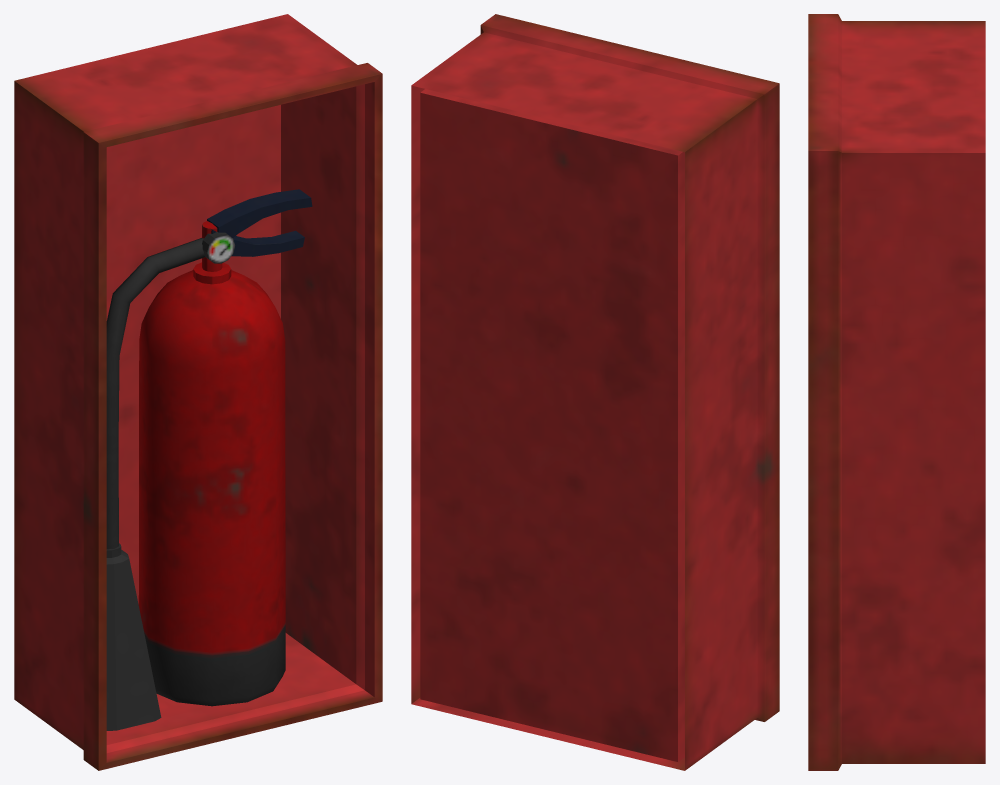
The model's file is Extintor_Con_Caja.fbx.
3 views of the same model, side by side, from view 1: azimuth 30°, elevation 25°; view 2: azimuth 150°, elevation 25°; view 3: azimuth 270°, elevation 25° (orthographic).
Parts seen in each view (by area): view 1: Cube.001, Circle, Cube, BezierCurve, Plane, Cylinder; view 2: Cube.001; view 3: Cube.001.
Part boxes in pixels (x1,y1,x2,y2): Cube.001: [14, 14, 382, 770]; Circle: [138, 221, 285, 706]; Cube: [106, 543, 161, 730]; BezierCurve: [106, 238, 204, 549]; Plane: [207, 189, 312, 256]; Cylinder: [202, 231, 235, 263]; Cube.001: [411, 14, 779, 770]; Cube.001: [808, 14, 985, 770].
Size of the model in its own units: 35.67 by 75.34 by 19.5.
2 materials, 2 textured.
